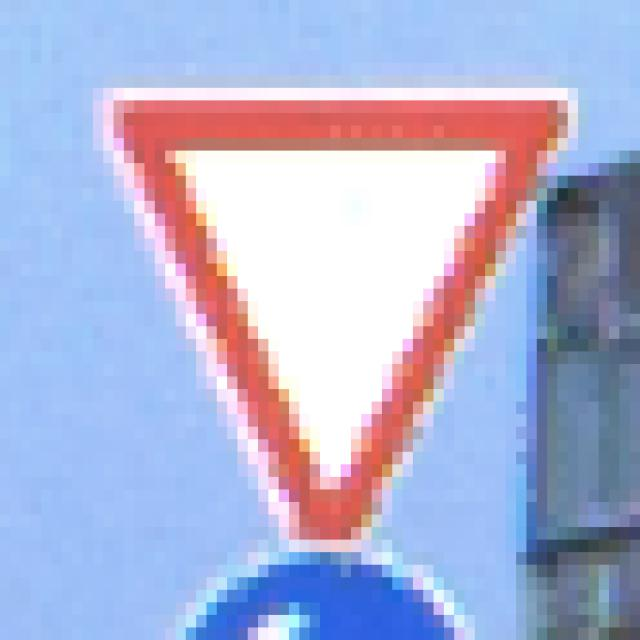Give Way: (53, 64, 590, 578)
